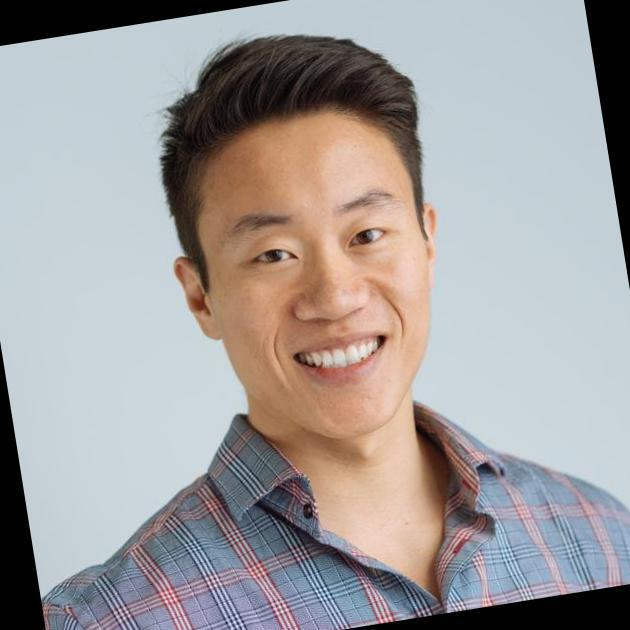Sober: (215, 137, 422, 421)
